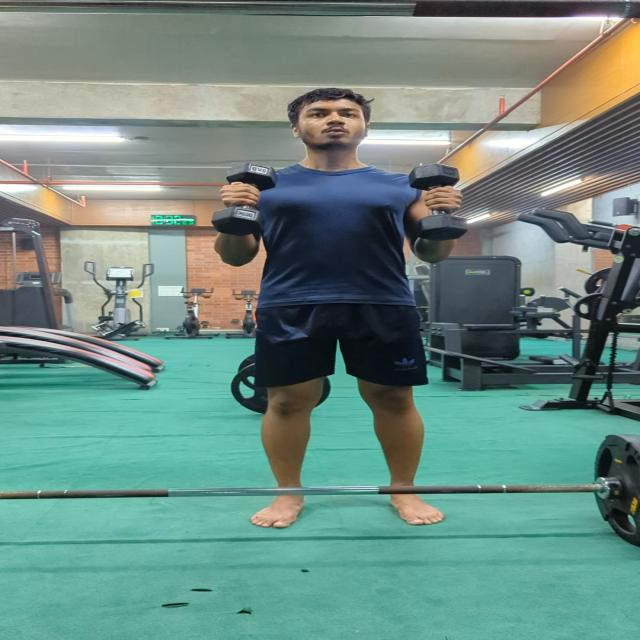Normal_DumbbellBicepCurls: (188, 82, 485, 535)
